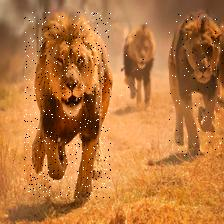Lion: (25, 13, 112, 200), (170, 15, 224, 158), (122, 24, 161, 106)
